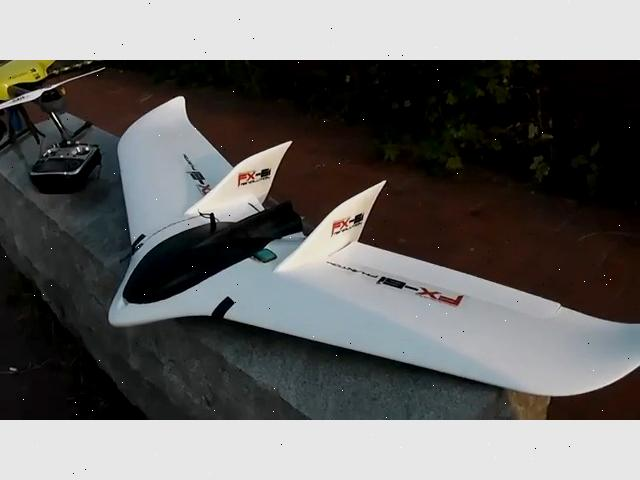Anti-Drone: (90, 78, 640, 420)
